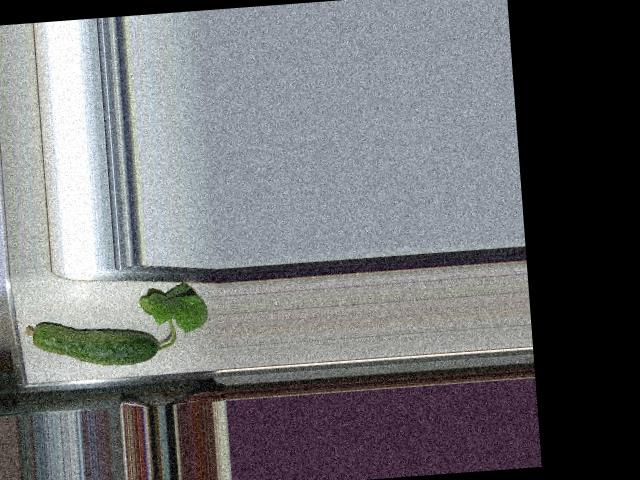cucumber: (24, 314, 161, 372)
